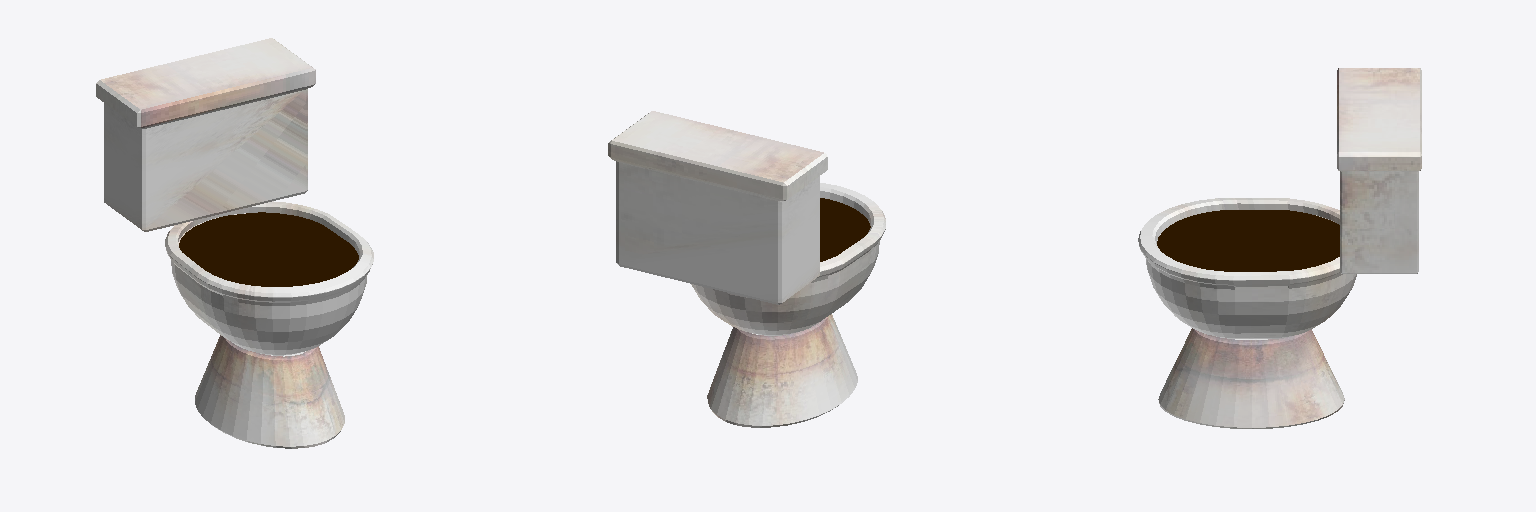
3 views of the same model, side by side, from view 1: azimuth 30°, elevation 25°; view 2: azimuth 150°, elevation 25°; view 3: azimuth 270°, elevation 25° (orthographic).
Visible parts, largest first — view 1: Cubo; view 2: Cubo; view 3: Cubo.
Boxes of the visible parts, <box> form: Cubo: <box>96,38,373,448</box>; Cubo: <box>608,111,885,427</box>; Cubo: <box>1138,68,1421,428</box>.
Bounding box in the file's own units: 1.83 × 2.86 × 2.52.
Materials: 4 (1 with a texture image).